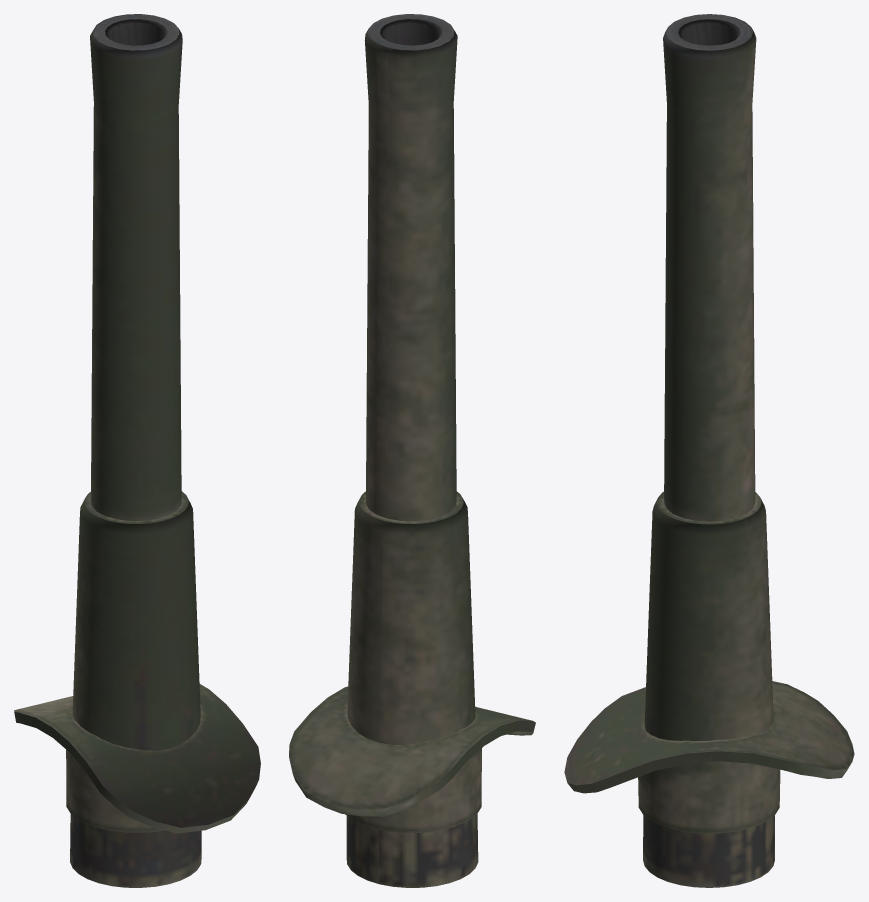
The model's file is Gun_06.glb.
3 views of the same model, side by side, from view 1: azimuth 30°, elevation 25°; view 2: azimuth 150°, elevation 25°; view 3: azimuth 270°, elevation 25° (orthographic).
Visible parts, largest first — view 1: set_0_group_0; view 2: set_0_group_0; view 3: set_0_group_0.
Boxes of the visible parts, bbox=[...] form: set_0_group_0: bbox=[14, 14, 260, 887]; set_0_group_0: bbox=[289, 14, 535, 887]; set_0_group_0: bbox=[564, 14, 854, 887].
Bounding box in the file's own units: 0.2368 × 1.2 × 0.3795.
Materials: 1 (1 with a texture image).
